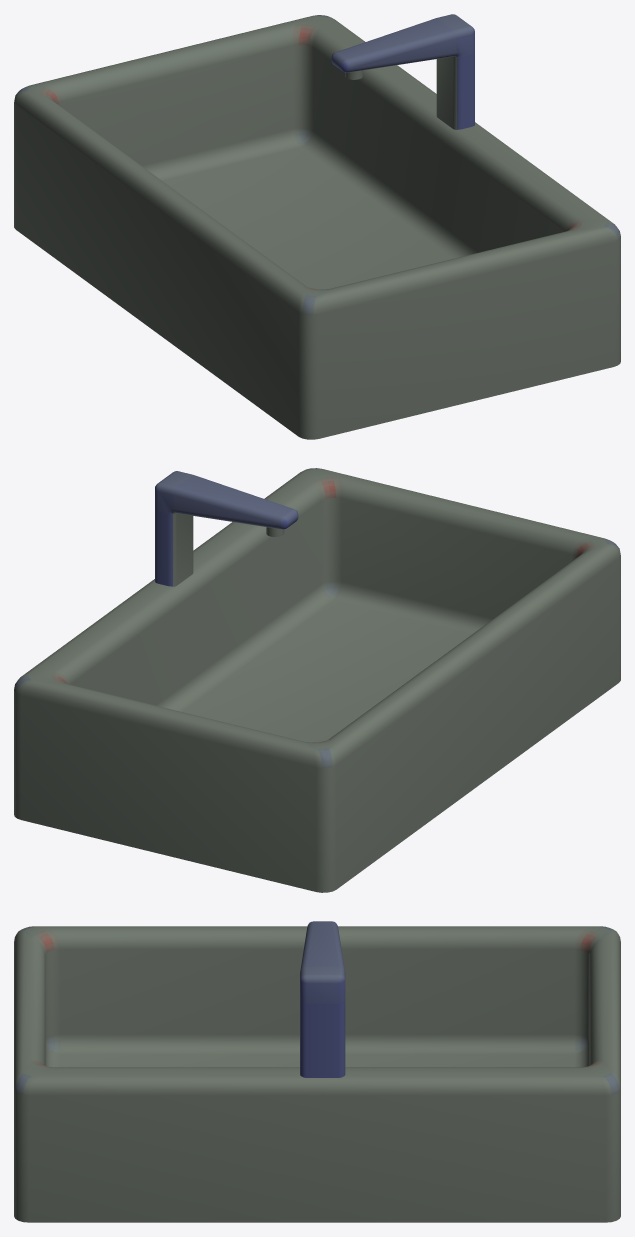
File: hand wash basin.FBX
The picture shows the model from 3 angles, top to bottom: view 1: azimuth 30°, elevation 25°; view 2: azimuth 150°, elevation 25°; view 3: azimuth 270°, elevation 25°; orthographic projection. The views are drawn at different scales.
Parts seen in each view (by area): view 1: hand wash basin; view 2: hand wash basin; view 3: hand wash basin.
Part boxes in pixels (bbox=[...]): hand wash basin: bbox=[14, 14, 620, 439]; hand wash basin: bbox=[14, 468, 620, 892]; hand wash basin: bbox=[14, 921, 620, 1222].
Size of the model in its own units: 32.6 by 22.95 by 52.4.
